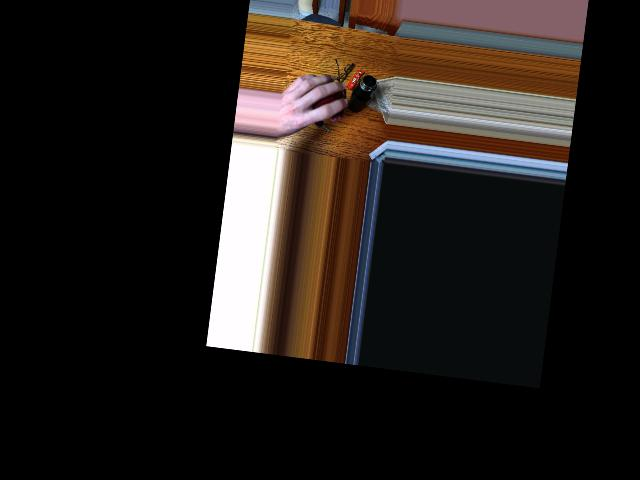onion: (304, 77, 340, 121)
